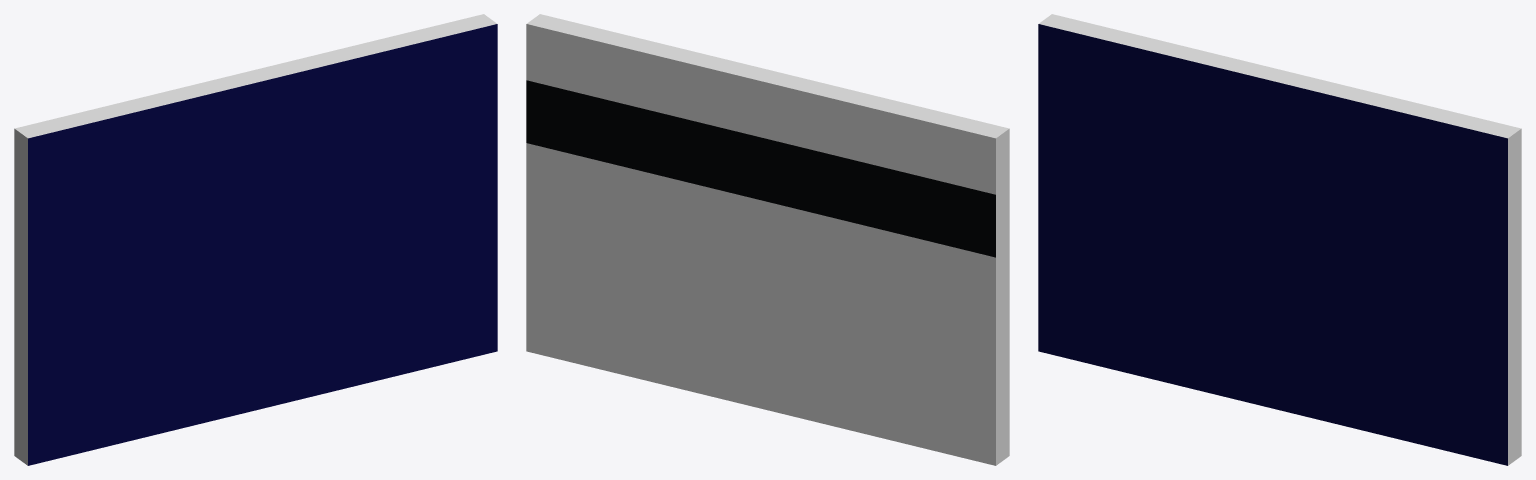
File: SecurityCard.fbx
3 renders of one model, left to right at view 1: azimuth 30°, elevation 25°; view 2: azimuth 150°, elevation 25°; view 3: azimuth 330°, elevation 25°, orthographic.
Parts seen in each view (by area): view 1: Cube; view 2: Cube; view 3: Cube.
Boxes of the visible parts, x1,y1,x2,y2 form: Cube: [14, 14, 497, 465]; Cube: [526, 14, 1009, 465]; Cube: [1038, 14, 1521, 465].
Size of the model in its own units: 30 by 20 by 1.5.
